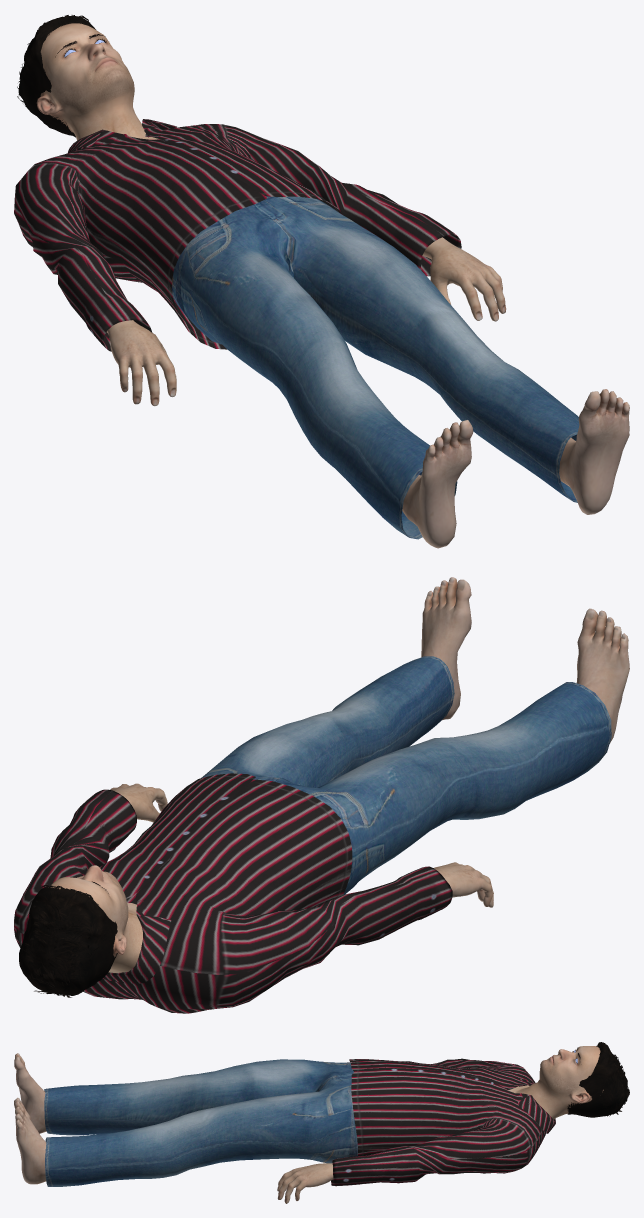
The model's file is daniel-lying.glb.
3 renders of one model, top to bottom at view 1: azimuth 30°, elevation 25°; view 2: azimuth 150°, elevation 25°; view 3: azimuth 270°, elevation 25°, orthographic. The views are drawn at different scales.
Parts seen in each view (by area): view 1: lie_man_body.male_casualsuit03, lie_man_body, lie_man_body.short01; view 2: lie_man_body.male_casualsuit03, lie_man_body, lie_man_body.short01; view 3: lie_man_body.male_casualsuit03, lie_man_body, lie_man_body.short01.
Boxes of the visible parts, <box> form: lie_man_body.male_casualsuit03: <box>14,119,579,539</box>; lie_man_body: <box>36,23,629,548</box>; lie_man_body.short01: <box>17,15,95,137</box>; lie_man_body.male_casualsuit03: <box>14,656,611,1013</box>; lie_man_body: <box>48,577,629,972</box>; lie_man_body.short01: <box>19,884,117,997</box>; lie_man_body.male_casualsuit03: <box>44,1058,555,1186</box>; lie_man_body: <box>14,1046,603,1203</box>; lie_man_body.short01: <box>567,1042,629,1117</box>.
Bounding box in the file's own units: 0.7971 × 0.365 × 1.77.
8 materials, 8 textured.
